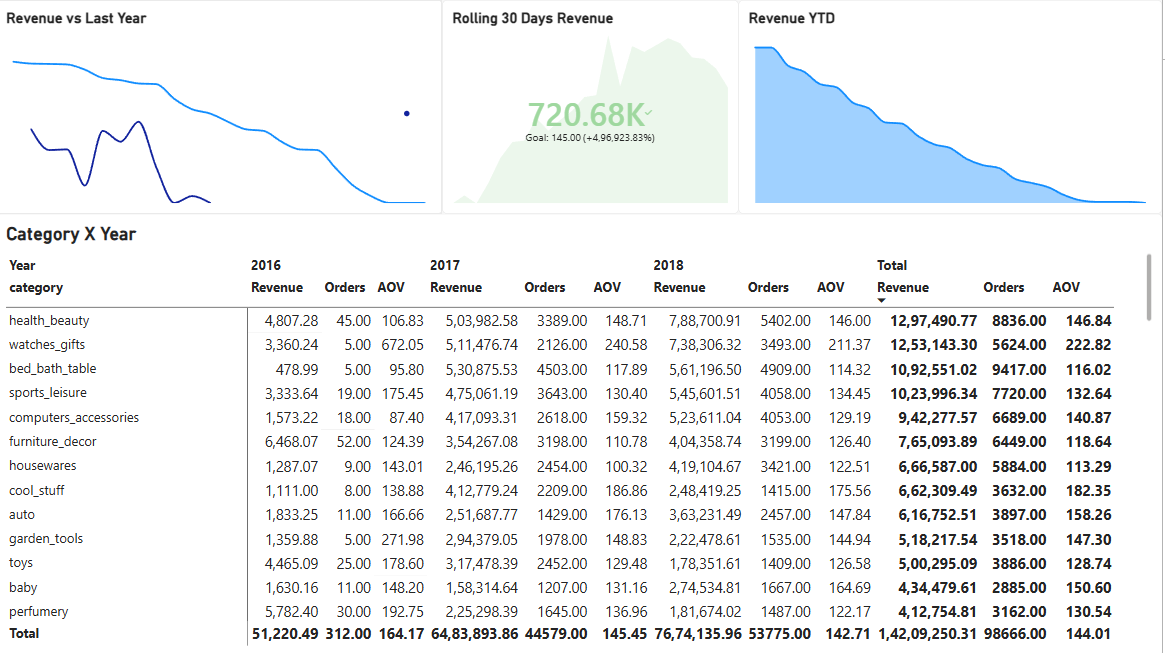

What the dashboard file says about the page in this screenshot:
{"tool":"powerbi","page":{"name":"Sales Trend","canvas":[1920,1080],"ordinal":1},"visuals":[{"type":"lineChart","title":"Revenue vs Last Year","fields":{"Category":["DimDate.Year-Month"],"Y":["public bi_fact_sales.Revenue","public bi_fact_sales.Revenue LY"]},"box":[0,0,734.8,352],"z":0},{"type":"kpi","title":"Rolling 30 Days Revenue","fields":{"Goal":["public bi_fact_sales.Revenue"],"Indicator":["public bi_fact_sales.Rolling 30D Revenue"],"TrendLine":["DimDate.Year-Month"]},"box":[734.8,0,487.8,352],"z":1},{"type":"areaChart","title":"Revenue YTD","fields":{"Category":["DimDate.Year-Month"],"Y":["public bi_fact_sales.Revenue YTD"]},"box":[1222.6,0,697.8,352],"z":2},{"type":"pivotTable","title":"Category X Year","fields":{"Columns":["DimDate.Year"],"Rows":["public bi_fact_sales.category"],"Values":["public bi_fact_sales.Revenue","public bi_fact_sales.Orders","public bi_fact_sales.AOV"]},"box":[0,352,1920.4,728.6],"z":3}]}

Visuals, with their boxes in screenshot pixels (x1, y1, x2, y2), scaled from the page's 1920x1080 canvas onto the 1165x653 screenshot:
"Revenue vs Last Year" lineChart: bbox(0, 0, 446, 213)
"Rolling 30 Days Revenue" kpi: bbox(446, 0, 742, 213)
"Revenue YTD" areaChart: bbox(742, 0, 1164, 213)
"Category X Year" pivotTable: bbox(0, 213, 1164, 652)
